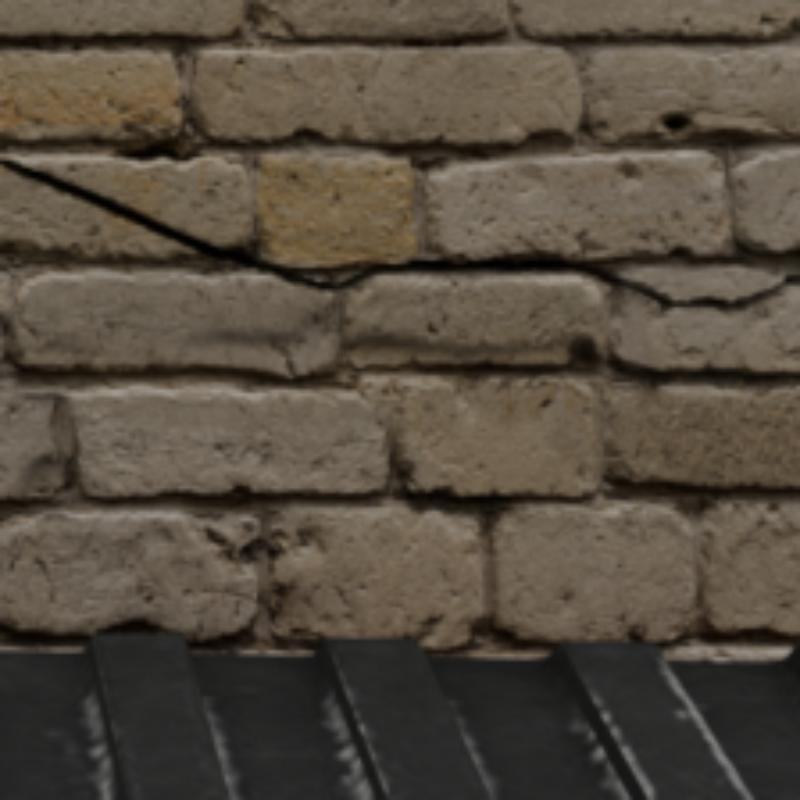pothole: (0, 161, 796, 307)
